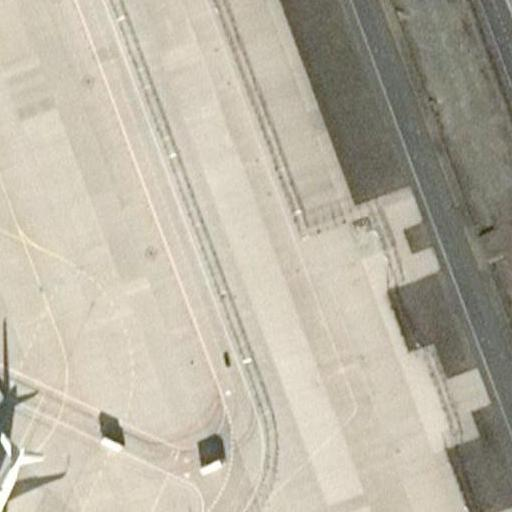Aircraft: (0, 424, 71, 512), (0, 432, 72, 512)
